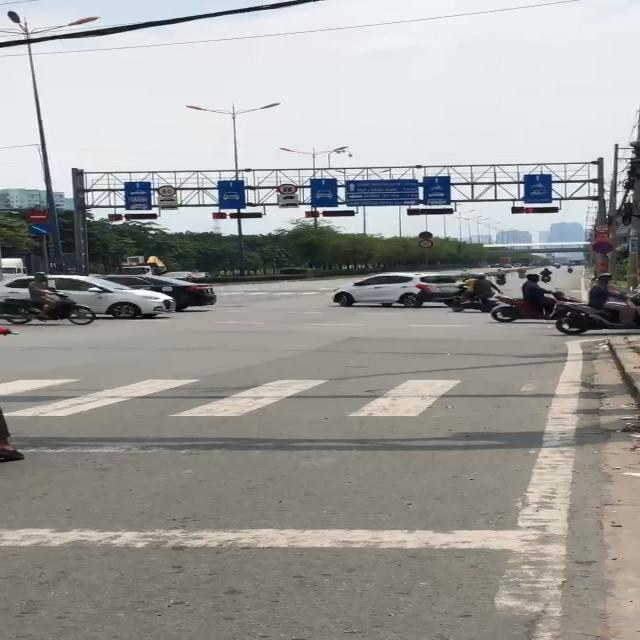Bien bao cam di nguoc chieu: (26, 210, 52, 223)
Bien bao huong phai di vong chuong ngai vat: (27, 222, 54, 238)
Bien bao toc do toi da cho phep: (155, 184, 180, 197), (276, 182, 299, 194)
